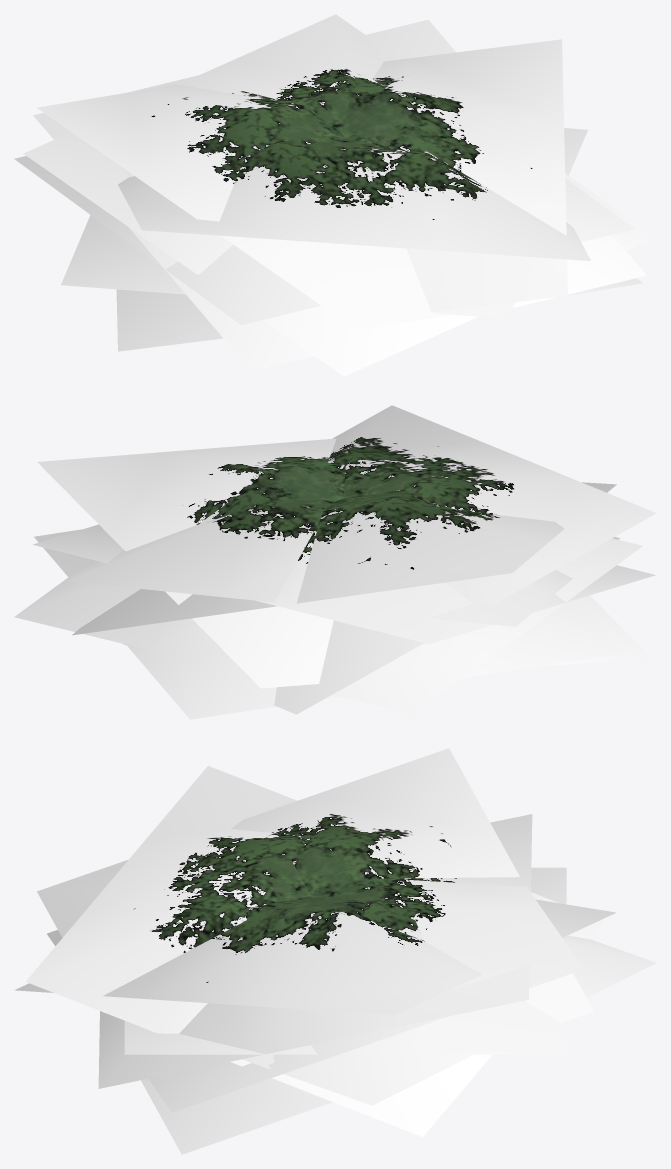
The model's file is Buisson.fbx.
3 renders of one model, top to bottom at view 1: azimuth 30°, elevation 25°; view 2: azimuth 150°, elevation 25°; view 3: azimuth 270°, elevation 25°, orthographic. The views are drawn at different scales.
Visible parts, largest first — view 1: pPlane60; view 2: pPlane60; view 3: pPlane60.
Boxes of the visible parts, x1,y1,x2,y2 form: pPlane60: (14, 14, 656, 376); pPlane60: (14, 405, 656, 719); pPlane60: (14, 748, 656, 1154).
Bounding box in the file's own units: 1.41 × 0.4595 × 1.46.
1 material, 1 textured.
